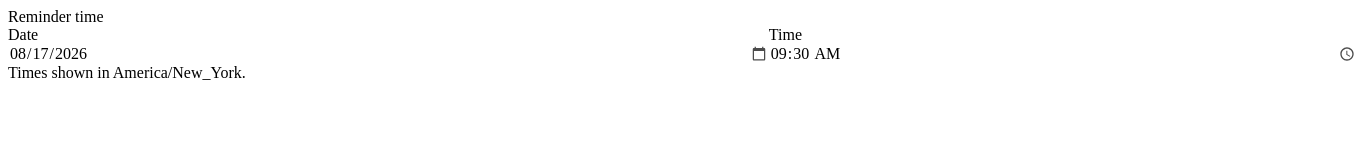
Scenario: DateTimeField › clears the date independently through its own clear action
The image size is (1366, 160).
Click the button named "Clear date" at (768, 54), box x1=767 y1=53 x2=769 y2=55
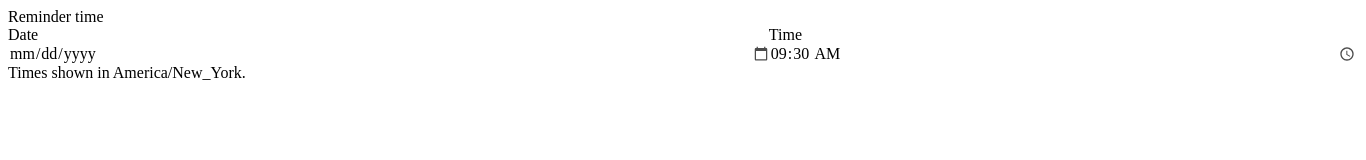
Expected: the time field labelled "Time" holds "09:30", x1=769 y1=44 x2=1356 y2=64
Expected: the date field labelled "Date" is empty, x1=8 y1=44 x2=769 y2=64
